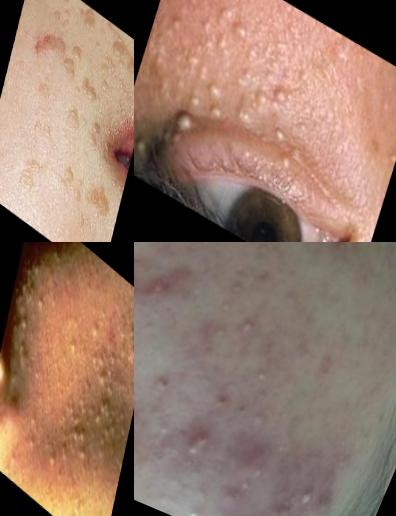cystic: (216, 439, 284, 516)
flat_wart: (54, 153, 116, 243), (17, 150, 47, 202), (105, 34, 135, 86), (71, 68, 103, 115), (61, 39, 88, 88), (72, 1, 100, 41), (64, 99, 91, 139), (83, 114, 105, 159)
milium: (233, 64, 306, 160), (193, 1, 251, 71), (181, 56, 234, 132), (378, 129, 396, 173), (135, 129, 155, 164)
papular: (204, 386, 236, 418), (321, 243, 363, 263), (224, 243, 278, 256)
purulent: (174, 420, 220, 474), (242, 352, 283, 402), (227, 304, 272, 348), (285, 474, 322, 512)
sebo-crystan-conglo: (135, 260, 186, 314)
whitehead: (86, 337, 121, 400), (91, 389, 122, 445), (44, 434, 73, 493), (146, 412, 185, 455), (67, 418, 95, 465), (71, 374, 95, 423), (115, 322, 135, 374), (218, 275, 251, 303), (15, 335, 36, 375), (191, 243, 230, 264), (179, 496, 216, 516), (22, 281, 39, 315), (88, 312, 105, 346), (26, 406, 42, 438), (67, 333, 83, 364), (26, 430, 40, 459), (18, 310, 32, 338), (35, 290, 49, 318), (32, 255, 45, 283)
